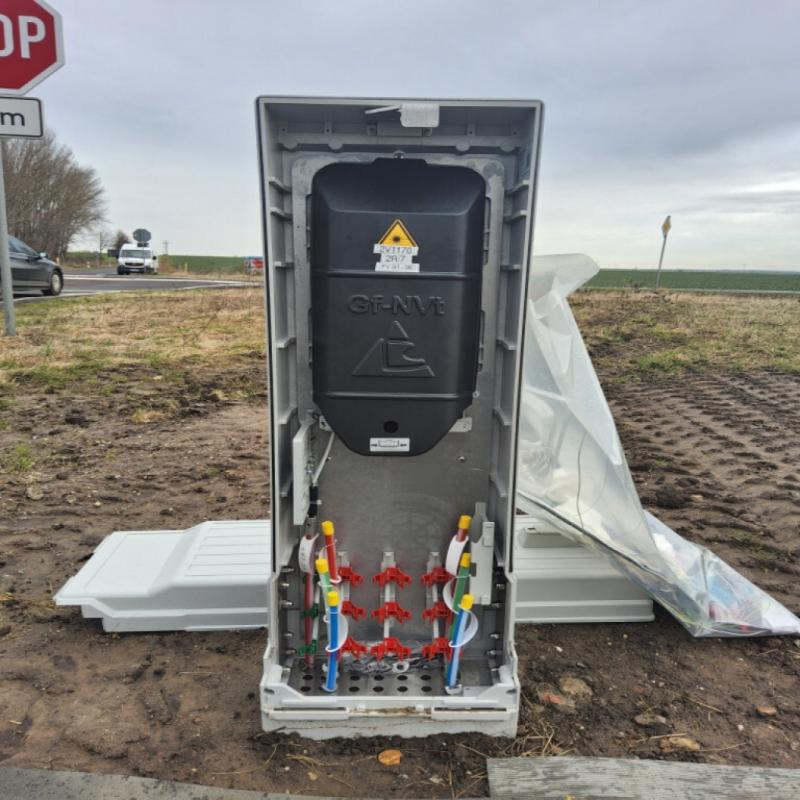NT-Gehause: (259, 94, 542, 738)
